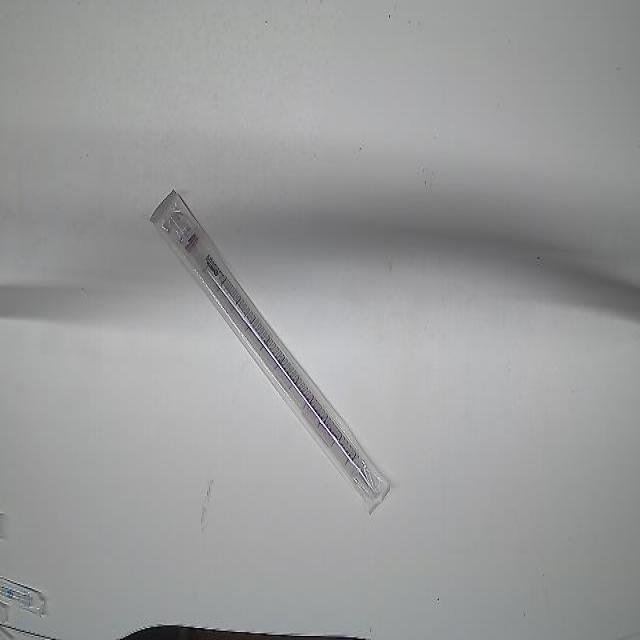Serelogical Pipet 50 mL - Sealed: (149, 187, 394, 520)
